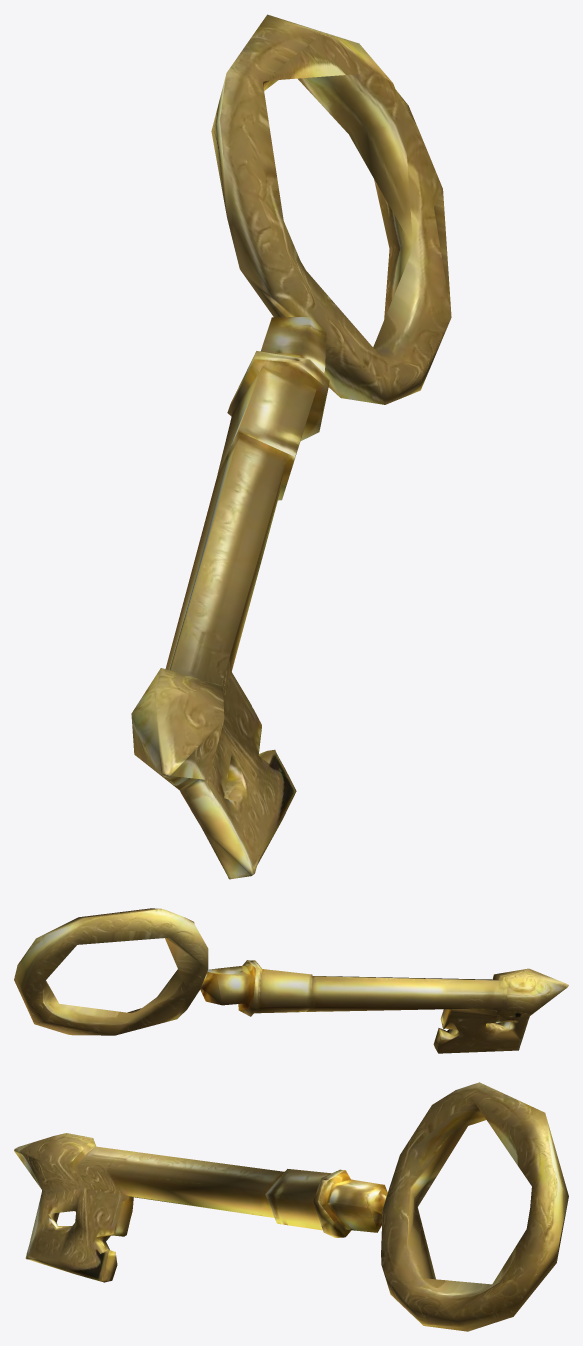
Rendered from golden_key.glb.
3 renders of one model, top to bottom at view 1: azimuth 30°, elevation 25°; view 2: azimuth 150°, elevation 25°; view 3: azimuth 270°, elevation 25°, orthographic. The views are drawn at different scales.
Bounding box in the file's own units: 1.75 × 1.12 × 1.99.
1 material, 1 textured.
